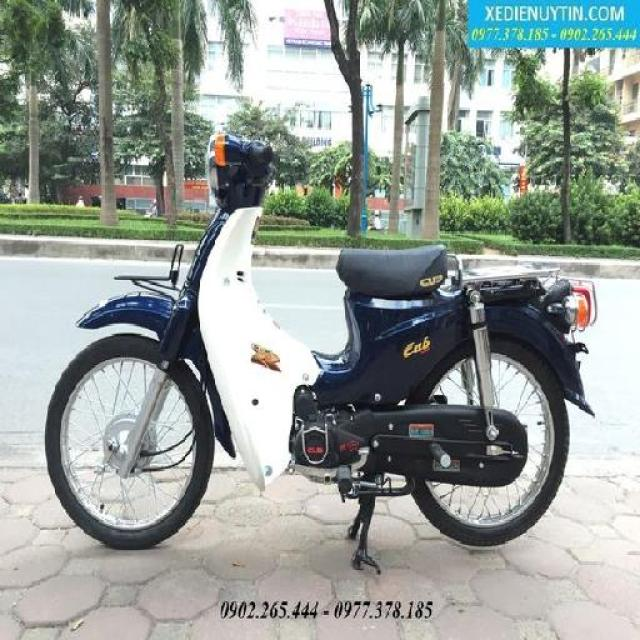All: (36, 129, 604, 556)
Head: (198, 130, 274, 214)
Tail: (519, 262, 599, 334)
